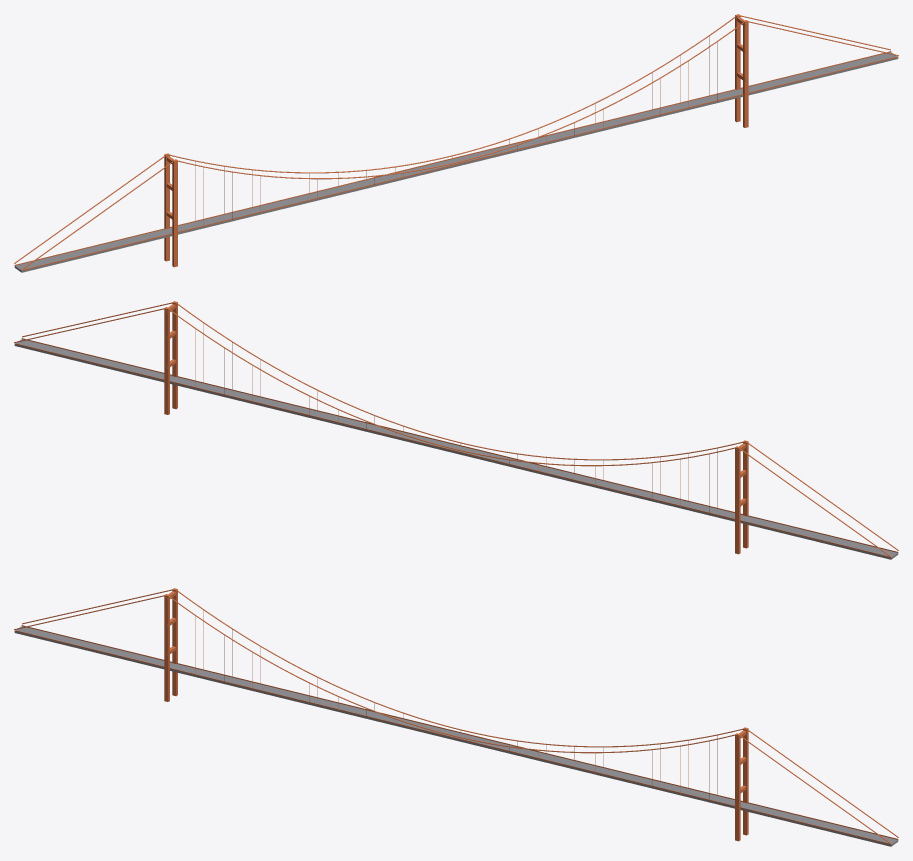
The model's file is golden_gate.glb.
The picture shows the model from 3 angles, top to bottom: view 1: azimuth 30°, elevation 25°; view 2: azimuth 150°, elevation 25°; view 3: azimuth 330°, elevation 25°; orthographic projection.
Parts seen in each view (by area): view 1: GoldenGate_deck, GoldenGate_rail_s, GoldenGate_rail_n, GoldenGate_cable_-16_0, GoldenGate_cable_+16_0, GoldenGate_tower0_-16, GoldenGate_tower1_-16, GoldenGate_tower0_+16, GoldenGate_tower1_+16; view 2: GoldenGate_deck, GoldenGate_rail_n, GoldenGate_rail_s, GoldenGate_cable_+16_0, GoldenGate_cable_-16_0, GoldenGate_tower0_+16, GoldenGate_tower1_+16, GoldenGate_tower0_-16, GoldenGate_tower1_-16; view 3: GoldenGate_deck, GoldenGate_rail_s, GoldenGate_rail_n, GoldenGate_cable_-16_0, GoldenGate_cable_+16_0, GoldenGate_tower1_-16, GoldenGate_tower0_-16, GoldenGate_tower1_+16, GoldenGate_tower0_+16.
Part boxes in pixels (x1,y1,x2,y2): GoldenGate_deck: (14, 52, 898, 272); GoldenGate_rail_s: (21, 56, 898, 270); GoldenGate_rail_n: (14, 51, 891, 265); GoldenGate_cable_-16_0: (175, 21, 745, 179); GoldenGate_cable_+16_0: (167, 15, 737, 173); GoldenGate_tower0_-16: (172, 159, 177, 267); GoldenGate_tower1_-16: (743, 20, 748, 127); GoldenGate_tower0_+16: (164, 153, 169, 261); GoldenGate_tower1_+16: (735, 14, 740, 122); GoldenGate_deck: (14, 339, 898, 559); GoldenGate_rail_n: (14, 343, 891, 557); GoldenGate_rail_s: (21, 338, 898, 552); GoldenGate_cable_+16_0: (167, 308, 737, 466); GoldenGate_cable_-16_0: (175, 302, 745, 460); GoldenGate_tower0_+16: (735, 446, 740, 554); GoldenGate_tower1_+16: (164, 307, 169, 414); GoldenGate_tower0_-16: (743, 440, 748, 548); GoldenGate_tower1_-16: (172, 301, 177, 409); GoldenGate_deck: (14, 626, 898, 846); GoldenGate_rail_s: (14, 630, 891, 844); GoldenGate_rail_n: (21, 625, 898, 839); GoldenGate_cable_-16_0: (167, 595, 737, 753); GoldenGate_cable_+16_0: (175, 589, 745, 747); GoldenGate_tower1_-16: (735, 733, 740, 841); GoldenGate_tower0_-16: (164, 594, 169, 701); GoldenGate_tower1_+16: (743, 727, 748, 835); GoldenGate_tower0_+16: (172, 588, 177, 696).
Bounding box in the file's own units: 1967 × 228 × 39.
